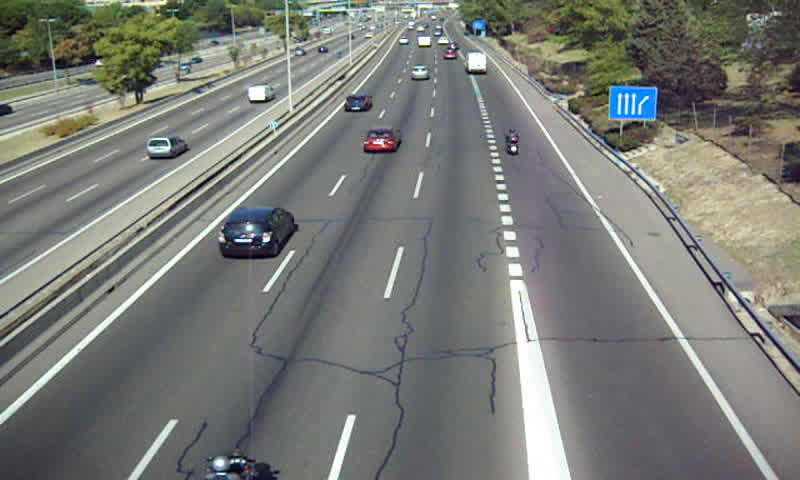car: (217, 208, 294, 258), (362, 126, 401, 154), (342, 93, 373, 112), (409, 66, 428, 81), (440, 48, 458, 61), (396, 34, 410, 45)
motorcycle: (503, 127, 523, 157)
van: (464, 52, 488, 74), (418, 36, 430, 47)
